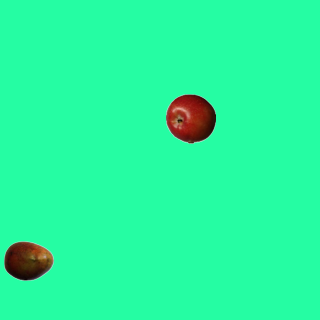Apple Braeburn: (165, 93, 215, 143)
Mango Red: (3, 235, 53, 285)
